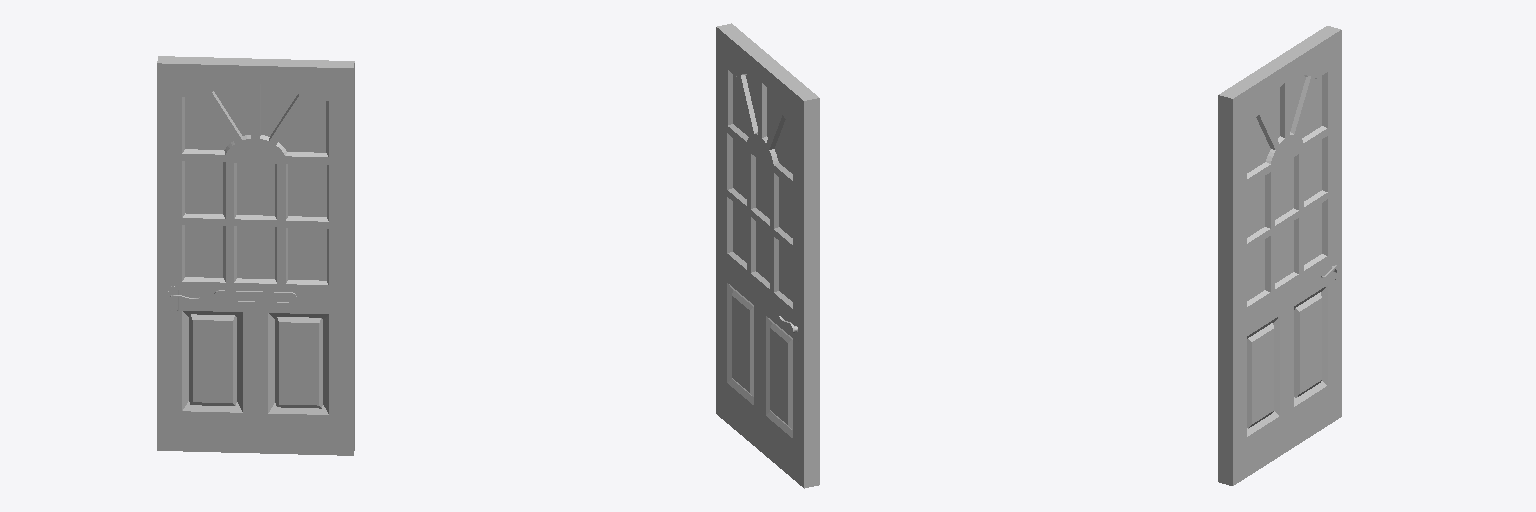
The model's file is door_000012.obj.
The picture shows the model from 3 angles: view 1: azimuth 30°, elevation 25°; view 2: azimuth 150°, elevation 25°; view 3: azimuth 270°, elevation 25°; orthographic projection.
Parts seen in each view (by area): view 1: Door.003; view 2: Door.003; view 3: Door.003.
Boxes of the visible parts, x1,y1,x2,y2 form: Door.003: [157, 56, 354, 455]; Door.003: [716, 23, 819, 488]; Door.003: [1218, 26, 1341, 485].
Bounding box in the file's own units: 0.6524 × 1.6 × 0.4625.